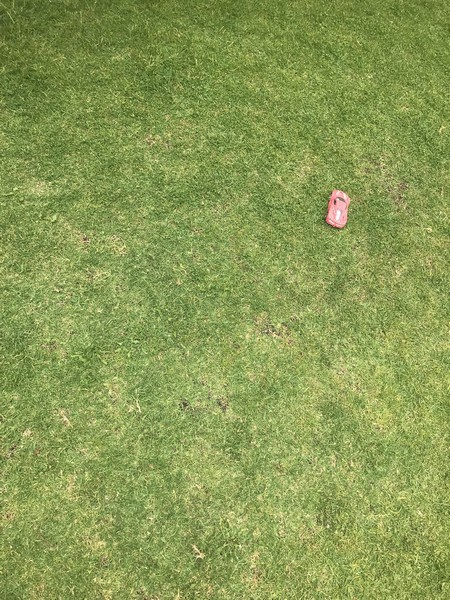RC: (325, 187, 351, 230)
